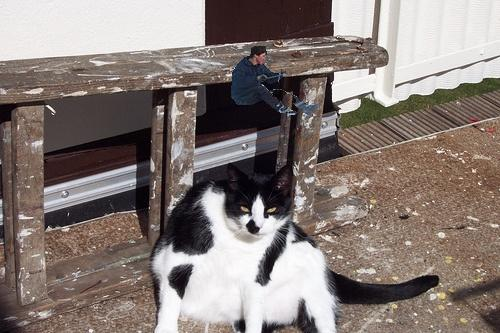tampered: (232, 47, 318, 115)
